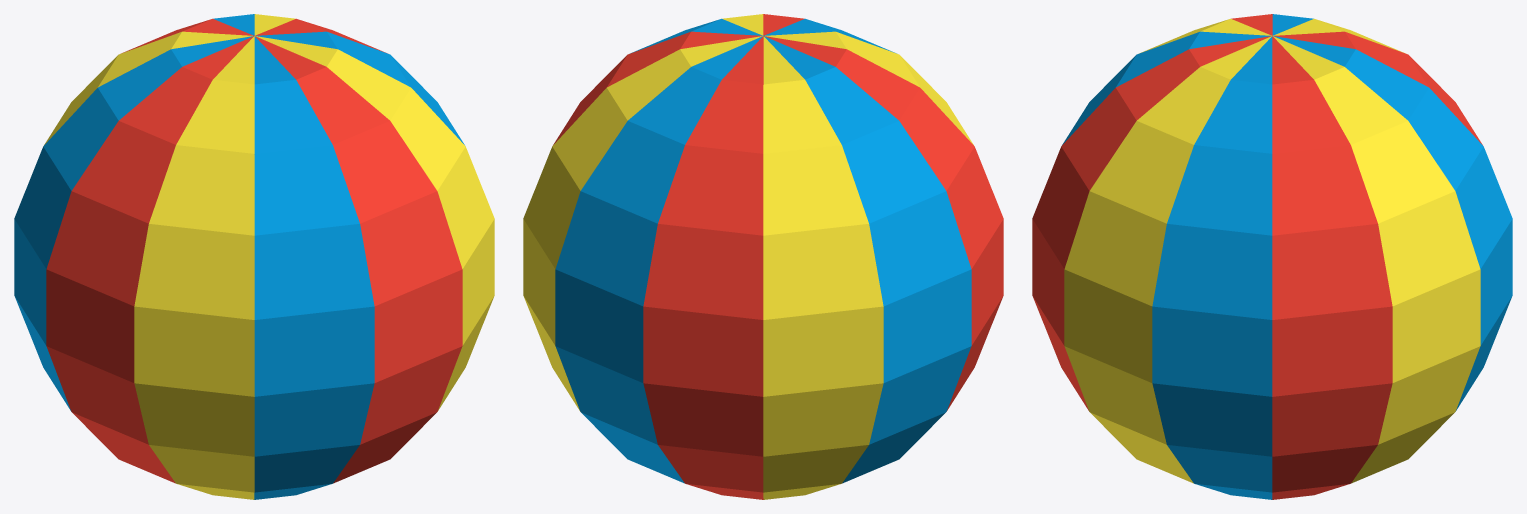
The model's file is BeachBall.glb.
3 views of the same model, side by side, from view 1: azimuth 30°, elevation 25°; view 2: azimuth 150°, elevation 25°; view 3: azimuth 270°, elevation 25° (orthographic).
Visible parts, largest first — view 1: Node; view 2: Node; view 3: Node.
Part boxes in pixels (box(x1,y1,x2,y2)): Node: box(14, 14, 494, 499); Node: box(523, 14, 1003, 499); Node: box(1032, 14, 1512, 499).
Bounding box in the file's own units: 1.17 × 1.19 × 1.17.
